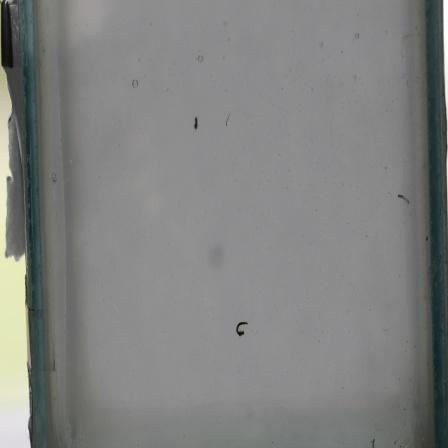Jentik-Nyamuk: (231, 317, 252, 341), (394, 189, 413, 207), (221, 110, 236, 132), (189, 113, 203, 132)
